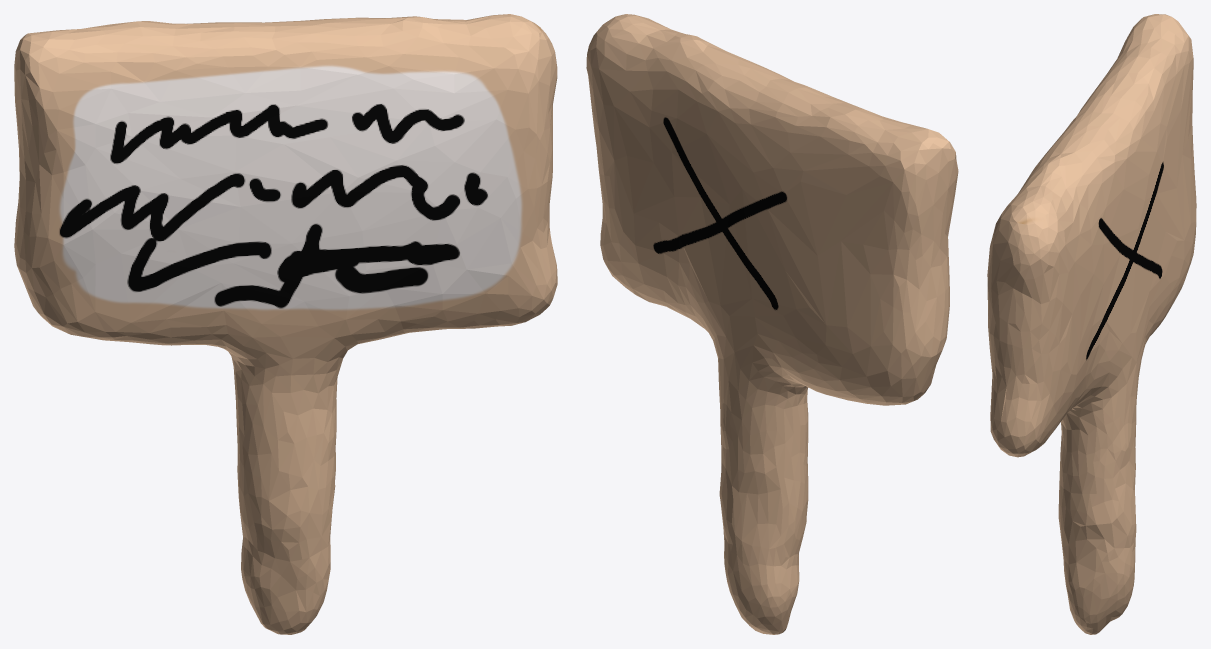
The model's file is signpost_og.glb.
3 renders of one model, left to right at view 1: azimuth 30°, elevation 25°; view 2: azimuth 150°, elevation 25°; view 3: azimuth 270°, elevation 25°, orthographic. The views are drawn at different scales.
Parts seen in each view (by area): view 1: Cube; view 2: Cube; view 3: Cube.
Boxes of the visible parts, x1,y1,x2,y2 form: Cube: [14, 14, 557, 634]; Cube: [586, 14, 958, 634]; Cube: [987, 14, 1196, 634].
Size of the model in its own units: 7.61 by 9.78 by 3.51.
1 material, 1 textured.
